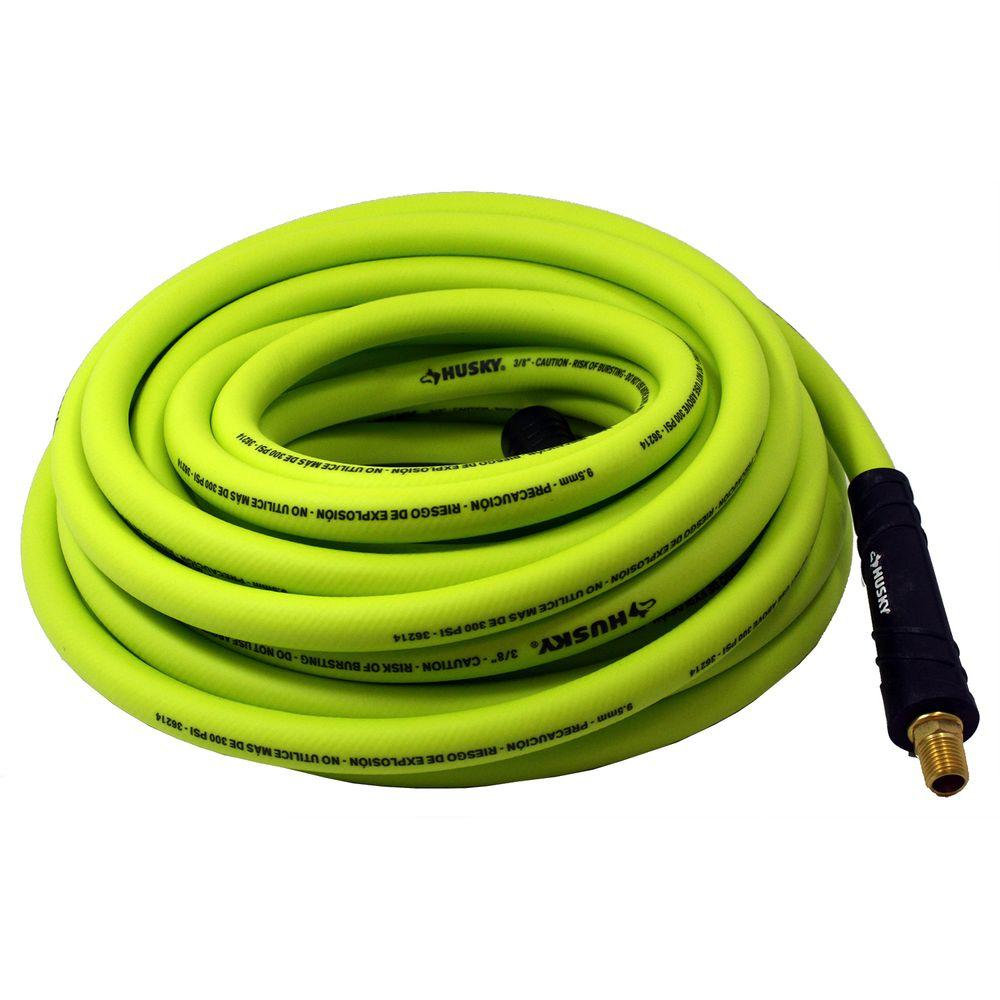Nonrec_Tangler: (11, 140, 991, 826)
